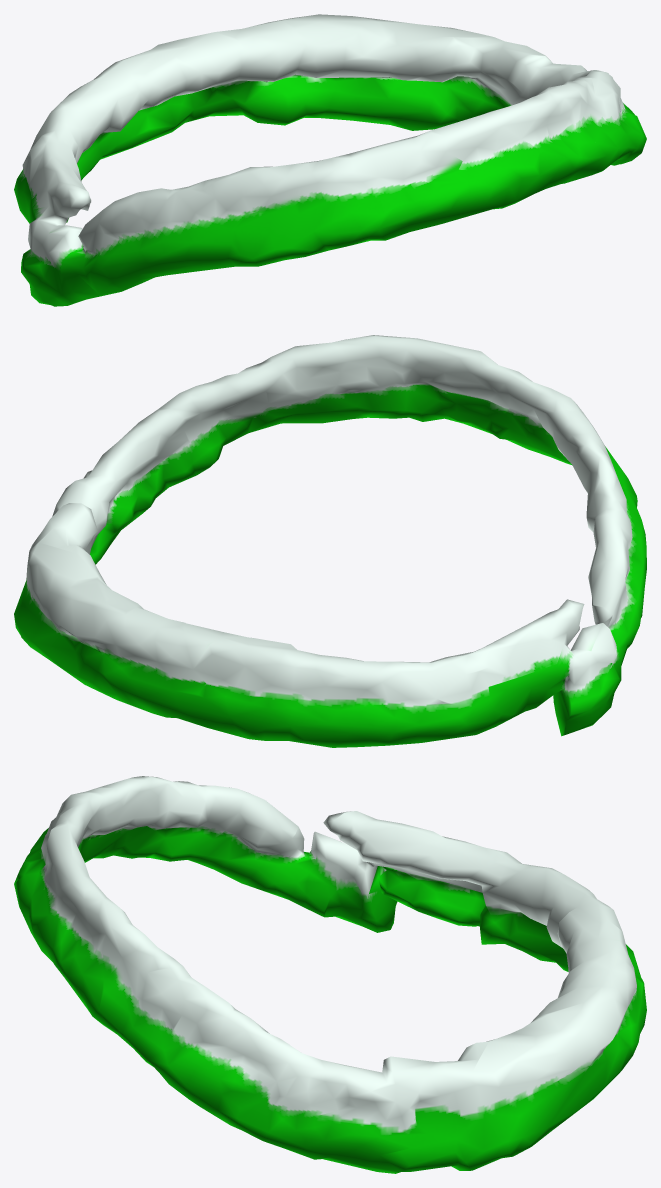
Rendered from headband green-white.glb.
The picture shows the model from 3 angles, top to bottom: view 1: azimuth 30°, elevation 25°; view 2: azimuth 150°, elevation 25°; view 3: azimuth 270°, elevation 25°; orthographic projection. The views are drawn at different scales.
Parts seen in each view (by area): view 1: headband_green_white.001; view 2: headband_green_white.001; view 3: headband_green_white.001.
Boxes of the visible parts, left/top/right/bottom form: headband_green_white.001: left=14, top=14, right=646, bottom=306; headband_green_white.001: left=14, top=335, right=646, bottom=747; headband_green_white.001: left=14, top=776, right=646, bottom=1173.
Bounding box in the file's own units: 0.3698 × 0.1373 × 0.3436.
1 material, 1 textured.
